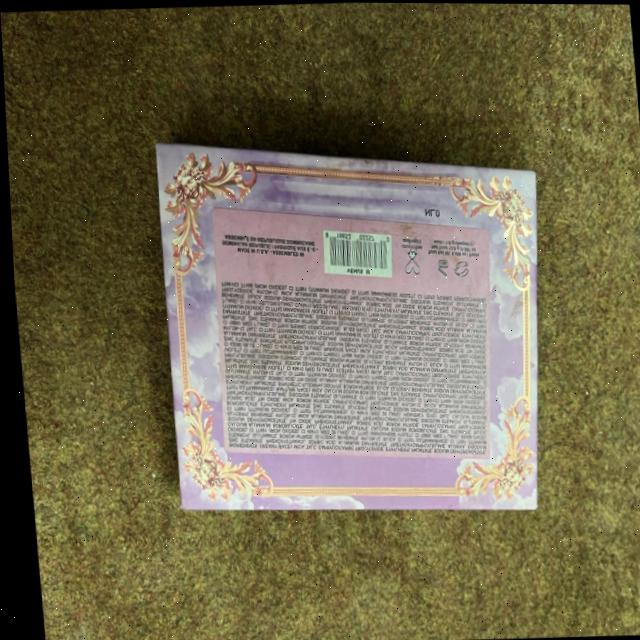makeup: (119, 114, 586, 548)
